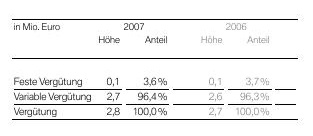table: (0, 0, 313, 136)
